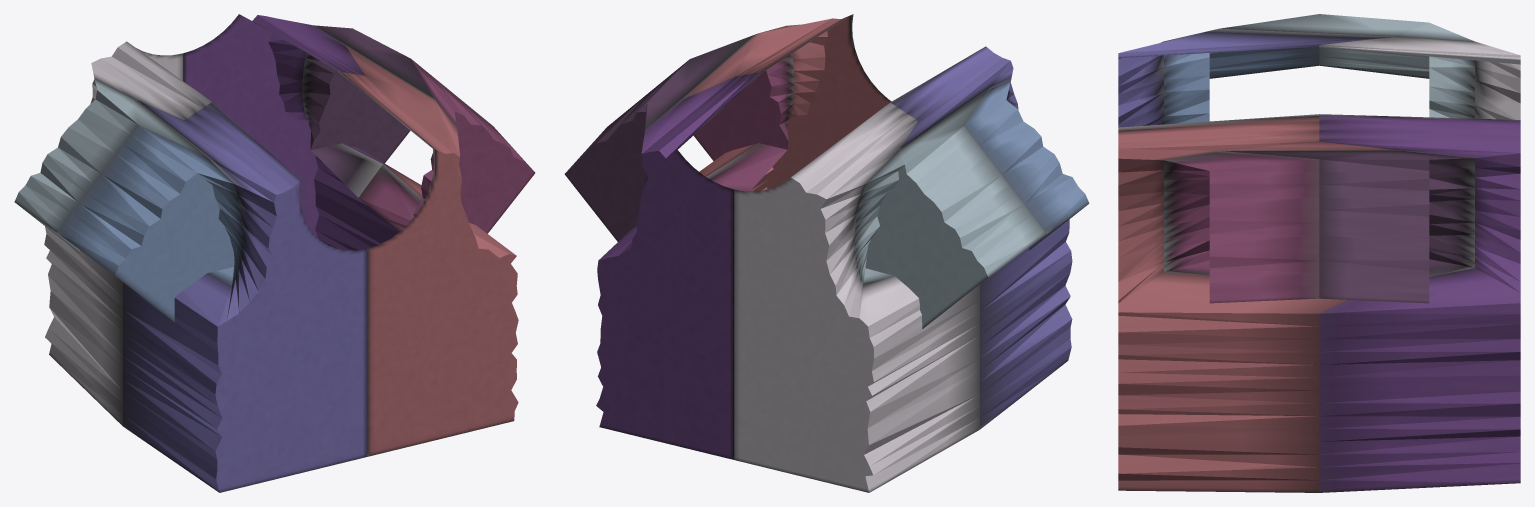
Rendered from tee_boxmesh.obj.
3 renders of one model, left to right at view 1: azimuth 30°, elevation 25°; view 2: azimuth 150°, elevation 25°; view 3: azimuth 270°, elevation 25°, orthographic. The views are drawn at different scales.
Bounding box in the file's own units: 75.31 × 49.96 × 55.
Materials: 1 (1 with a texture image).
